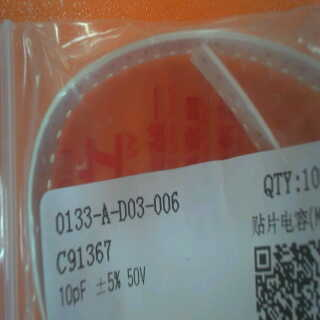10pF: (57, 278, 92, 308)
